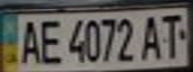0: (81, 16, 103, 64)
2: (115, 15, 139, 63)
4: (63, 15, 87, 64)
7: (100, 15, 118, 63)
A: (139, 11, 166, 61), (15, 17, 42, 65)
E: (36, 16, 63, 65)
T: (157, 10, 187, 60)
